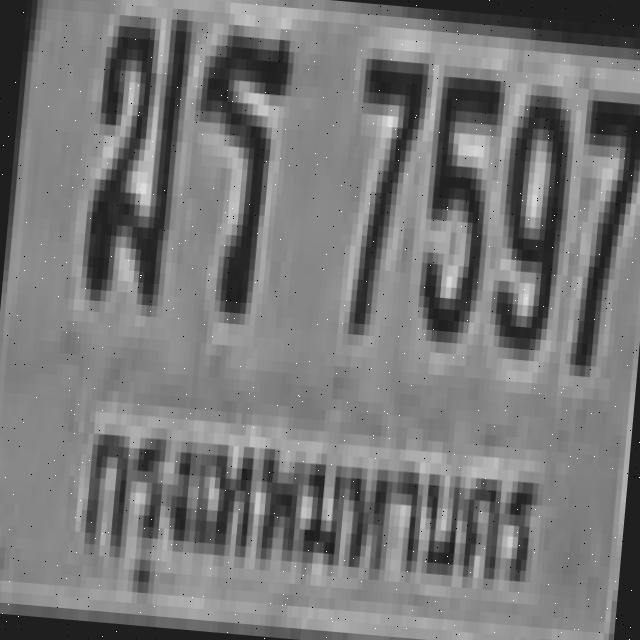15KhorRaKhang: (74, 2, 188, 296)
44RorRuea: (178, 22, 290, 316)
5: (411, 64, 501, 334)
7: (338, 47, 424, 327), (564, 88, 640, 368)
9: (488, 82, 568, 350)
Bangkok: (57, 384, 548, 640)
